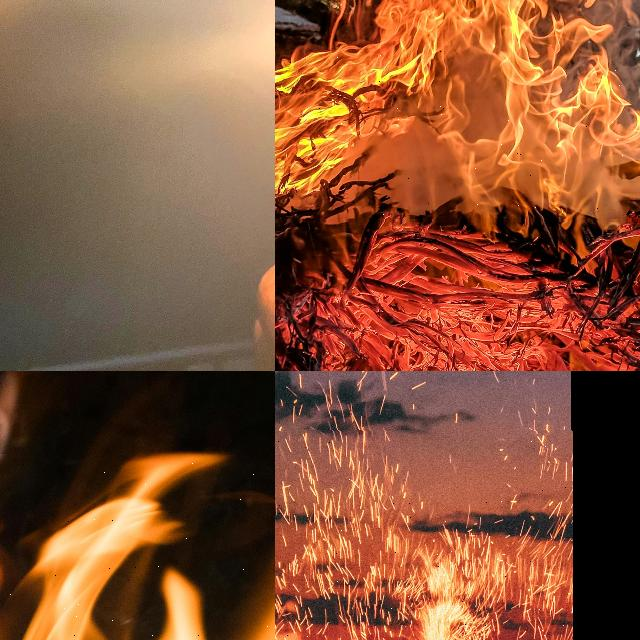fire: (275, 0, 640, 220), (275, 447, 572, 640), (315, 234, 640, 371)
